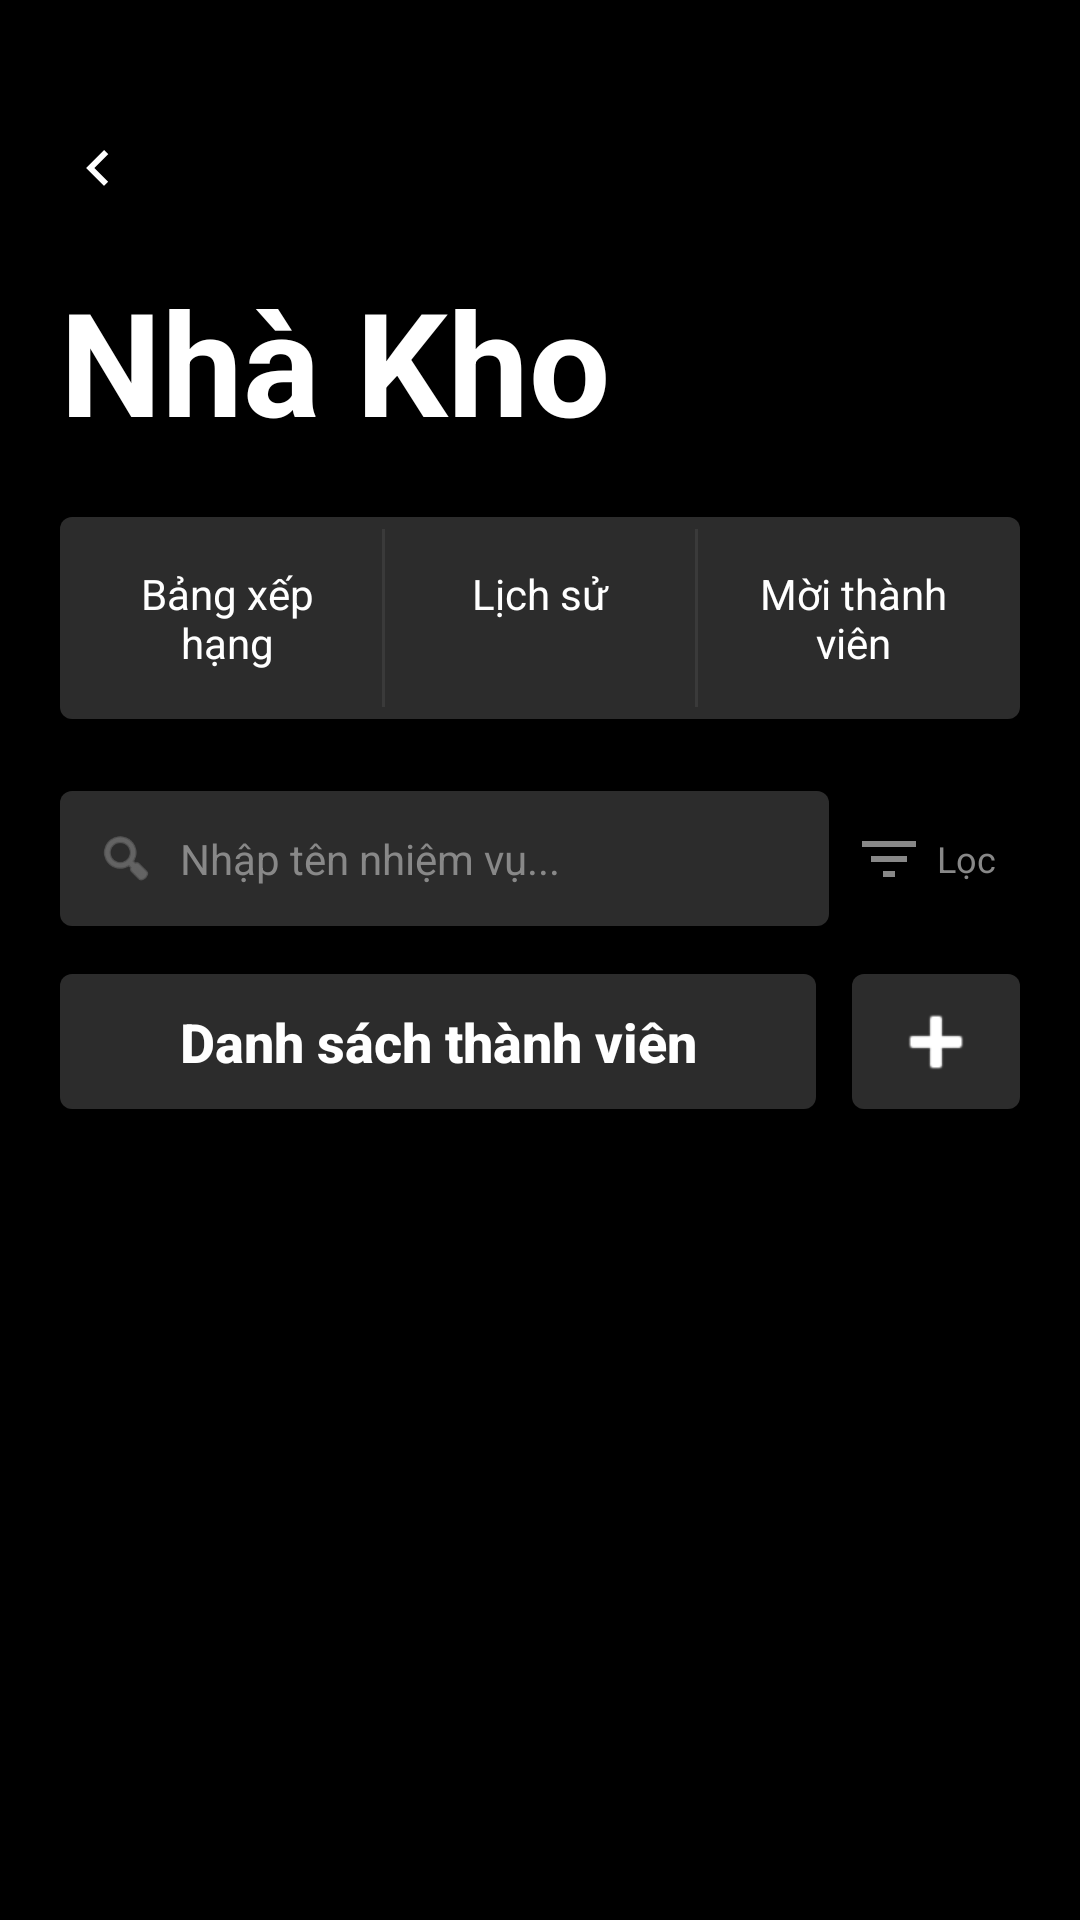

Screen size 1080x1920. Icon name, then its box in pixels as (x1=x1, y1=y1, x2=x2, y2=y2):
add: (x1=852, y1=974, x2=1020, y2=1109)
back: (x1=86, y1=150, x2=108, y2=186)
filter: (x1=862, y1=841, x2=916, y2=877)
search: (x1=104, y1=836, x2=148, y2=880)
